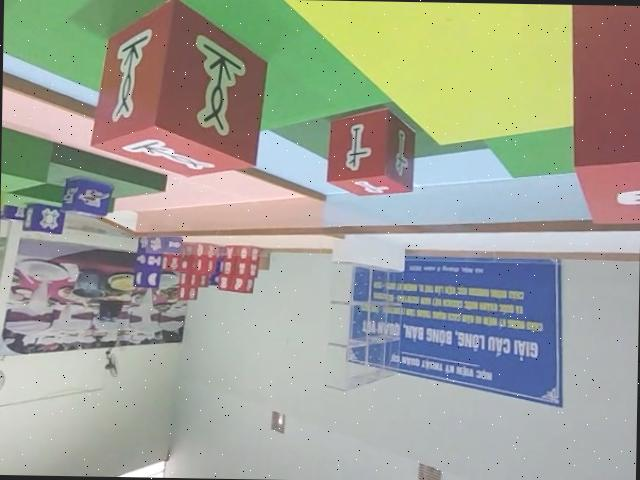R2 Real: (89, 0, 270, 181), (324, 106, 418, 201)
